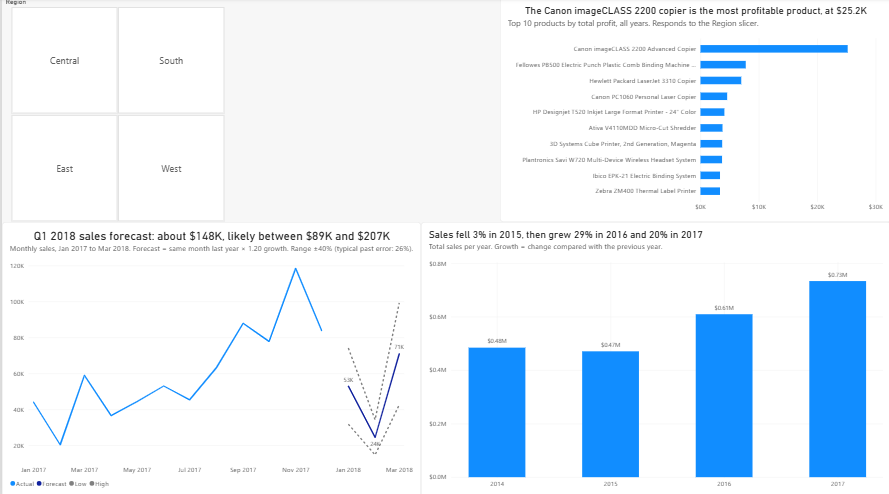

What the dashboard file says about the page in this screenshot:
{"tool":"powerbi","page":{"name":"Products and forecast","canvas":[1920,1080],"ordinal":3},"visuals":[{"type":"lineChart","title":"Q1 2018 sales forecast: about $148K, likely between $89K and $207K","fields":{"Category":["Forecast Chart Data.Month Date"],"Y":["Sum(Forecast Chart Data.Actual)","Sum(Forecast Chart Data.Forecast)","Sum(Forecast Chart Data.Low)","Sum(Forecast Chart Data.High)"]},"box":[0,483.8,905,596.2],"z":0},{"type":"clusteredBarChart","title":"The Canon imageCLASS 2200 copier is the most profitable product, at $25.2K","fields":{"Category":["dim_product.Product_Name"],"Y":["fact_sales.Total Profit"]},"box":[1075.7,0,844.6,483.8],"z":1000},{"type":"slicer","fields":{"Values":["dim_geography.Region"]},"box":[0,0,499,483.8],"z":2000},{"type":"clusteredColumnChart","title":"Sales fell 3% in 2015, then grew 29% in 2016 and 20% in 2017","fields":{"Category":["dim_date.year_num"],"Y":["fact_sales.Total Sales"]},"box":[905,483.8,1015.2,596.2],"z":3000}]}

Visuals, with their boxes in screenshot pixels (x1, y1, x2, y2), scaled from the page's 1920x1080 canvas onto the 889x494 screenshot:
"Q1 2018 sales forecast: about $148K, likely between $89K and $207K" lineChart: <box>0,221,419,493</box>
"The Canon imageCLASS 2200 copier is the most profitable product, at $25.2K" clusteredBarChart: <box>498,0,888,221</box>
slicer - dim_geography.Region: <box>0,0,231,221</box>
"Sales fell 3% in 2015, then grew 29% in 2016 and 20% in 2017" clusteredColumnChart: <box>419,221,888,493</box>
